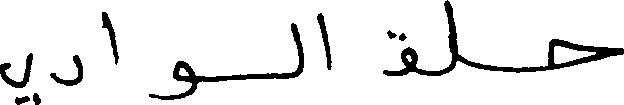X: (549, 34, 623, 74), (151, 56, 195, 104), (384, 25, 415, 80), (0, 50, 28, 104), (54, 50, 80, 90), (102, 7, 116, 69), (317, 8, 330, 74), (295, 19, 303, 81), (449, 0, 455, 76)
